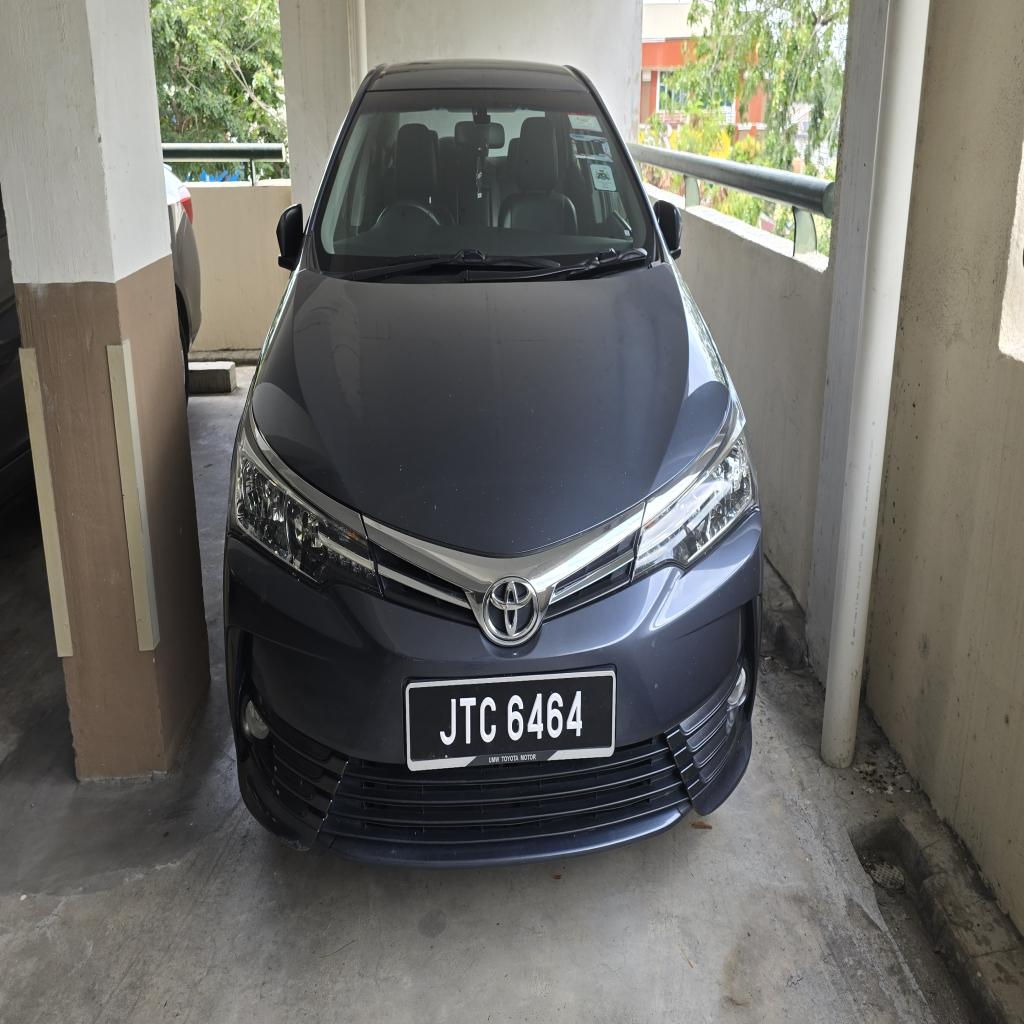car: (225, 62, 761, 864)
car plate: (405, 669, 615, 770)
